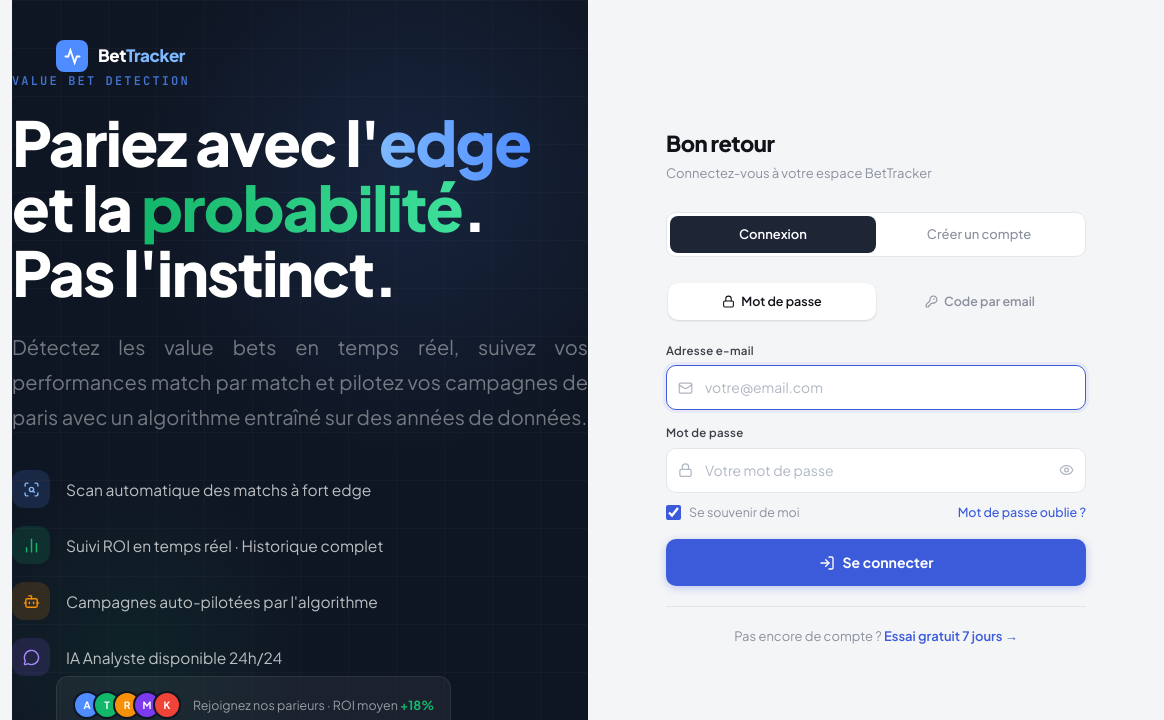
Test: Login page — formulaire connexion › passe en mode inscription au clic sur "Créer un compte"
The width and height of the screenshot is (1164, 720).
Click the button "Créer un compte" at point(979, 235), box [876,216,1082,253]
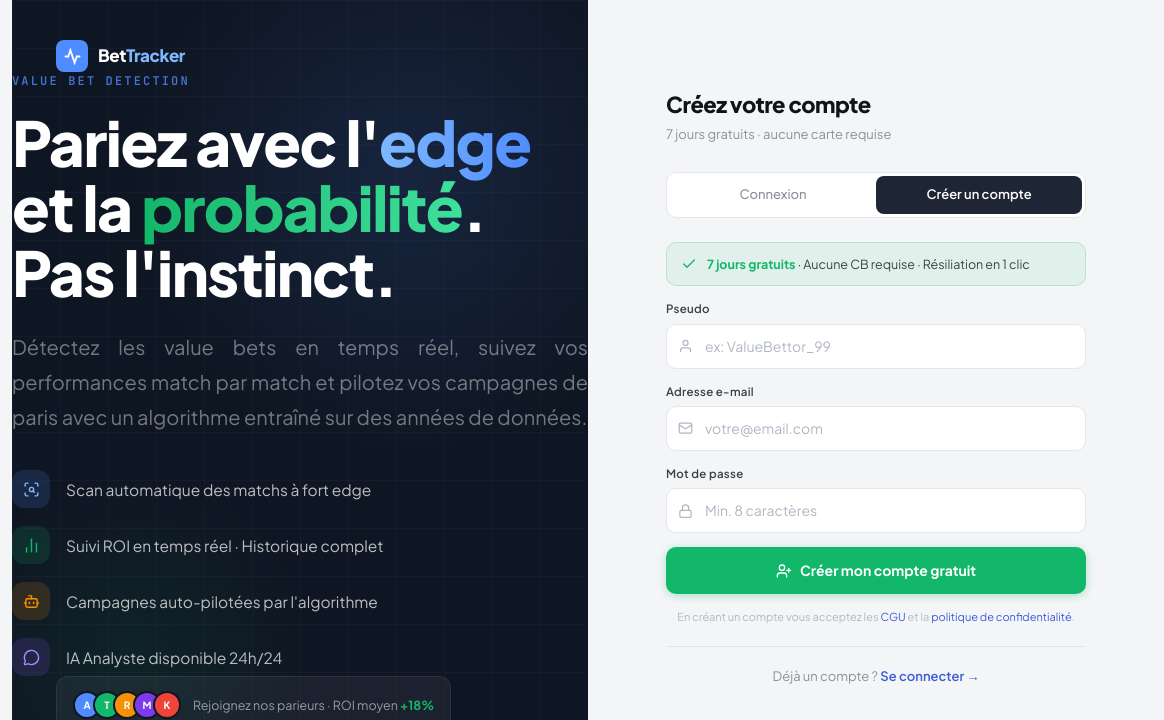
expect the heading "Créez votre compte" is shown: met, box [666,90,871,118]
